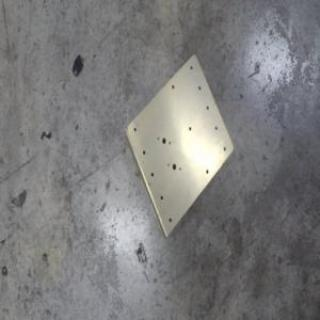MetalSheettrack_idkeyframe: (122, 51, 233, 240)
